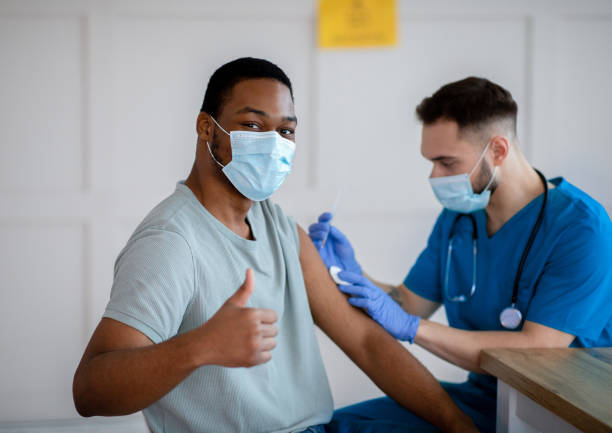with mask: (188, 66, 302, 209), (407, 73, 521, 216)
